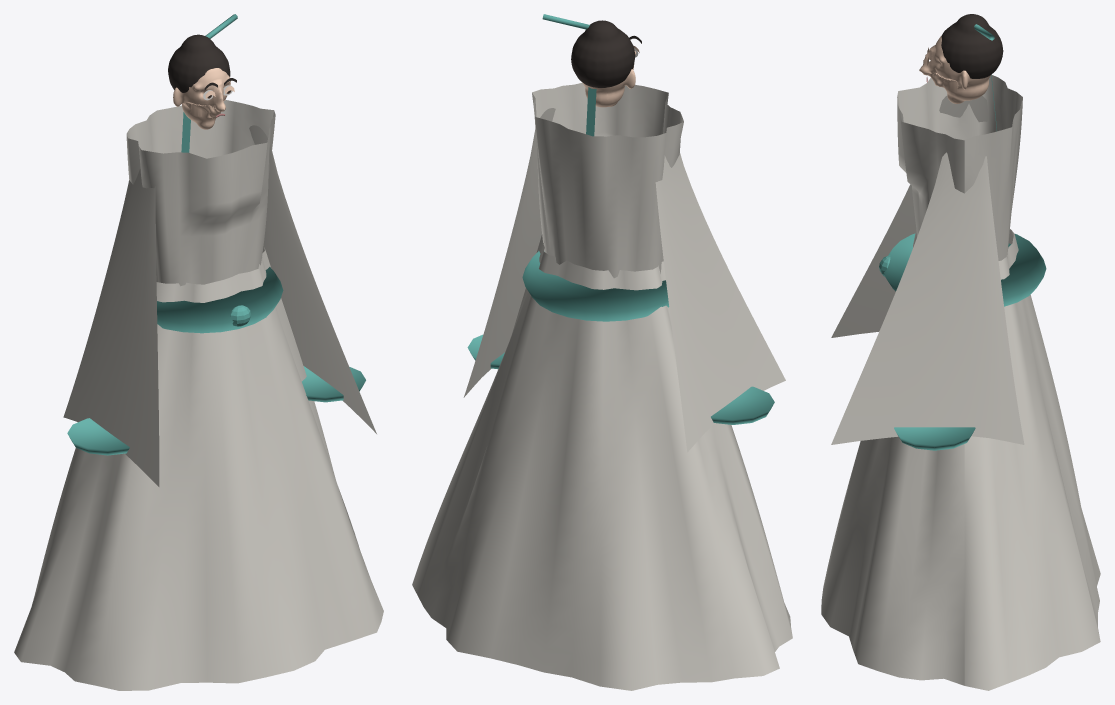
File: hanfu_m.glb
3 renders of one model, left to right at view 1: azimuth 30°, elevation 25°; view 2: azimuth 150°, elevation 25°; view 3: azimuth 270°, elevation 25°, orthographic. The views are drawn at different scales.
Visible parts, largest first — view 1: skirtMesh, chestMesh, sleevesleevePivotL, sleevesleevePivotR, Sash, HairCap.001, Head.001, Cuff, Cuff.001; view 2: skirtMesh, chestMesh, sleevesleevePivotL, sleevesleevePivotR, Sash, HairCap.001, Cuff, Head.001; view 3: skirtMesh, sleevesleevePivotR, chestMesh, sleevesleevePivotL, HairCap.001, Sash, Head.001, Cuff.001.
Part boxes in pixels (<box>): skirtMesh: <box>14,246,383,690</box>; chestMesh: <box>126,100,275,286</box>; sleevesleevePivotL: <box>63,169,159,486</box>; sleevesleevePivotR: <box>249,125,376,433</box>; Sash: <box>157,267,283,333</box>; HairCap.001: <box>168,34,230,92</box>; Head.001: <box>173,68,230,129</box>; Cuff: <box>67,418,129,455</box>; Cuff.001: <box>302,366,365,402</box>; skirtMesh: <box>412,234,792,690</box>; chestMesh: <box>532,82,683,278</box>; sleevesleevePivotL: <box>655,153,785,452</box>; sleevesleevePivotR: <box>463,108,555,397</box>; Sash: <box>522,251,669,321</box>; HairCap.001: <box>571,20,635,87</box>; Cuff: <box>711,386,774,424</box>; Head.001: <box>582,50,636,107</box>; skirtMesh: <box>821,229,1100,690</box>; sleevesleevePivotR: <box>831,152,1024,444</box>; chestMesh: <box>897,75,1022,260</box>; sleevesleevePivotL: <box>831,96,988,337</box>; HairCap.001: <box>941,14,1003,78</box>; Sash: <box>884,233,1046,306</box>; Head.001: <box>919,35,990,103</box>; Cuff.001: <box>894,427,975,450</box>.
Size of what is drawn, in the model's own units: 1.1 by 1.76 by 0.7511.
